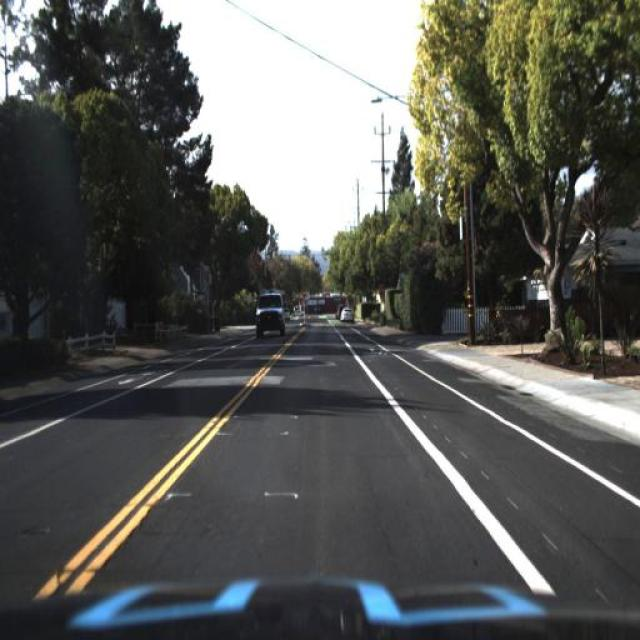car: (247, 284, 288, 345), (336, 302, 356, 327)
